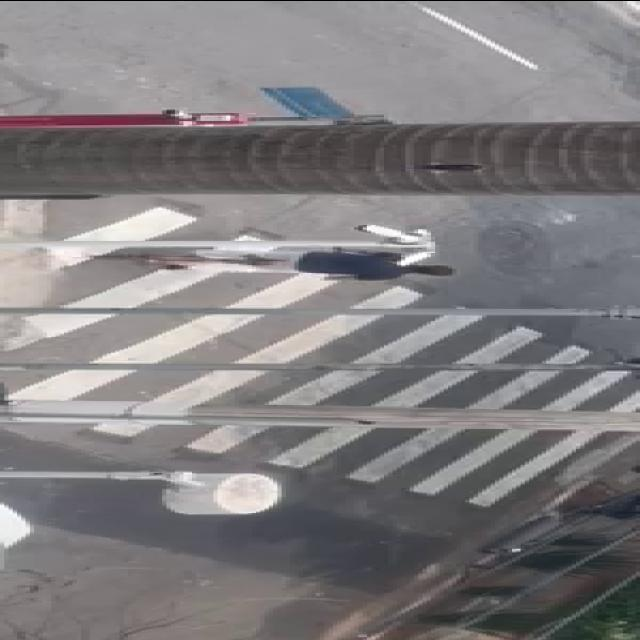bicycle: (105, 240, 482, 288)
